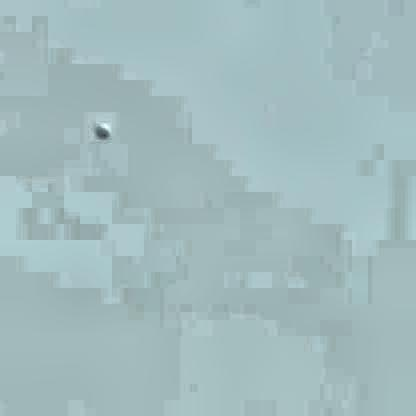golfball: (91, 117, 107, 135)
